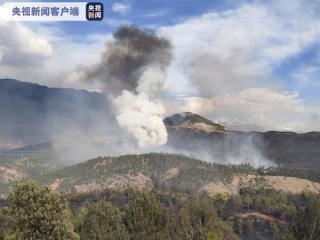smoke: (175, 13, 312, 109), (97, 26, 185, 153), (204, 134, 281, 174)
